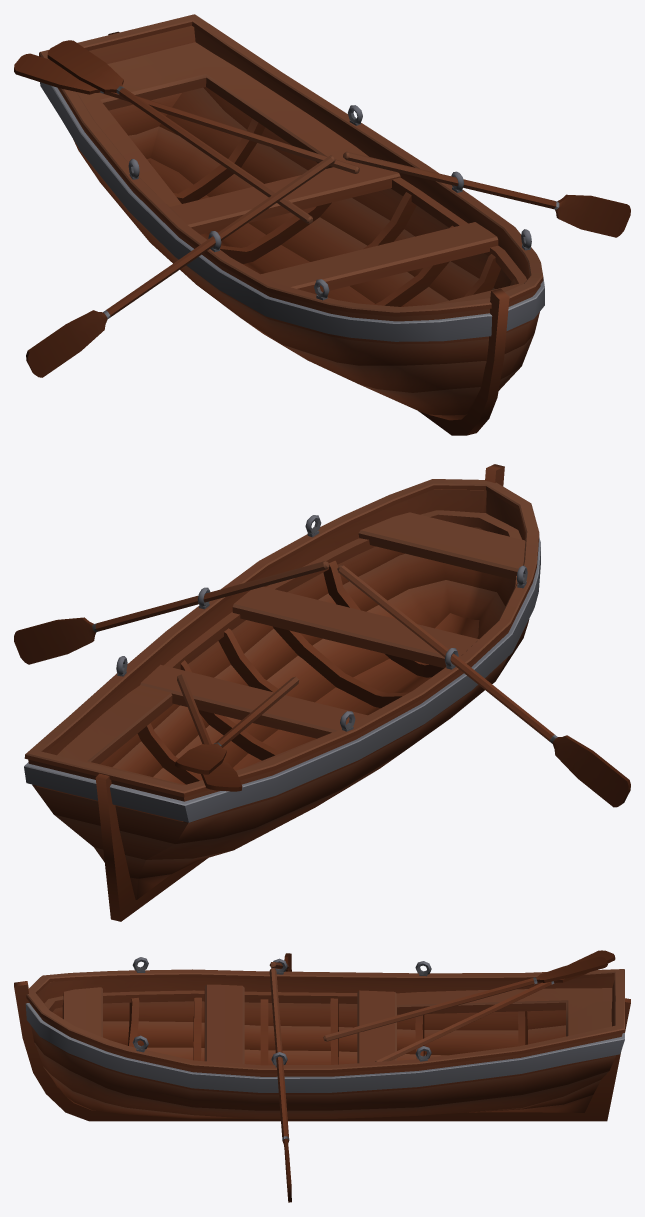
The model's file is Rowboat.fbx.
3 views of the same model, one above another, from view 1: azimuth 30°, elevation 25°; view 2: azimuth 150°, elevation 25°; view 3: azimuth 270°, elevation 25° (orthographic). The views are drawn at different scales.
Parts seen in each view (by area): view 1: Rowboat, Cylinder.001, Cylinder.002, Cylinder.004, Cylinder.003; view 2: Rowboat, Cylinder.001, Cylinder.002, Cylinder.004, Cylinder.003; view 3: Rowboat, Cylinder.004, Cylinder.003, Cylinder.002.
Boxes of the visible parts, box(x1,y1,x2,y2) form: Rowboat: box(39, 14, 544, 435); Cylinder.001: box(26, 155, 335, 377); Cylinder.002: box(343, 151, 630, 237); Cylinder.004: box(47, 40, 312, 223); Cylinder.003: box(14, 53, 359, 173); Rowboat: box(24, 464, 540, 921); Cylinder.001: box(337, 565, 630, 807); Cylinder.002: box(14, 561, 329, 664); Cylinder.004: box(175, 676, 299, 774); Cylinder.003: box(177, 674, 242, 791); Rowboat: box(14, 957, 630, 1121); Cylinder.004: box(323, 956, 607, 1041); Cylinder.003: box(375, 950, 615, 1061); Cylinder.002: box(269, 968, 291, 1202).
Bounding box in the file's own units: 6.42 × 7.21 × 1.98.
